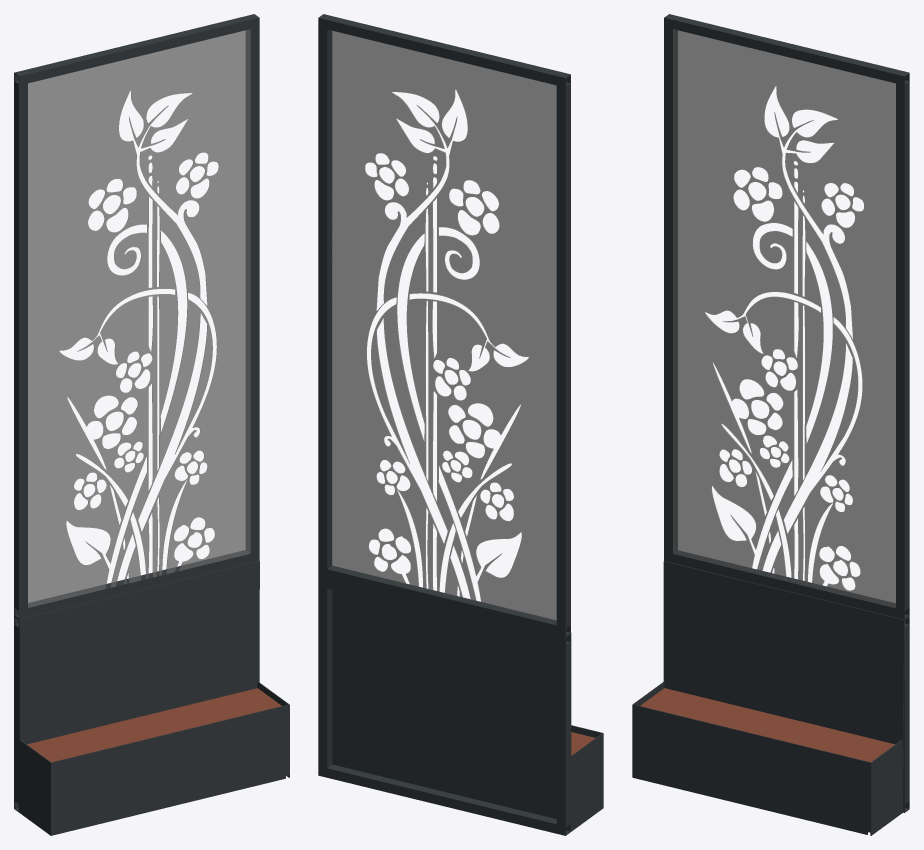
File: Modelo_05-Grade.obj
3 renders of one model, left to right at view 1: azimuth 30°, elevation 25°; view 2: azimuth 150°, elevation 25°; view 3: azimuth 330°, elevation 25°, orthographic. The views are drawn at different scales.
Parts seen in each view (by area): view 1: Mesh15 Group2 Model, Mesh10 Chapa_3mm4 Canteiro1 Inferior M_dulo_01 Model, Mesh9 Chapa_3mm_1_1 Canteiro1 Inferior M_dulo_01 Model, Mesh11 Quadrado_30x30_5 Barras_Horizontais Superior M_dulo_01 Mo, Mesh13 Quadrado_30x30_7 Barras_Horizontais Superior M_dulo_01 Mo, Mesh5 Group1 Canteiro1 Inferior M_dulo_01 Model, Mesh14 Quadrado_30x30_8 Barras_Horizontais Superior M_dulo_01 Mo, Mesh12 Quadrado_30x30_6 Barras_Horizontais Superior M_dulo_01 Mo, Mesh8 Chapa_3mm3 Canteiro1 Inferior M_dulo_01 Model, Mesh2 Quadrado_30x30_2 Inferior M_dulo_01 Model; view 2: Mesh15 Group2 Model, Mesh10 Chapa_3mm4 Canteiro1 Inferior M_dulo_01 Model, Mesh11 Quadrado_30x30_5 Barras_Horizontais Superior M_dulo_01 Mo, Mesh13 Quadrado_30x30_7 Barras_Horizontais Superior M_dulo_01 Mo, Mesh14 Quadrado_30x30_8 Barras_Horizontais Superior M_dulo_01 Mo, Mesh4 Quadrado_30x30_4 Inferior M_dulo_01 Model, Mesh12 Quadrado_30x30_6 Barras_Horizontais Superior M_dulo_01 Mo, Mesh2 Quadrado_30x30_2 Inferior M_dulo_01 Model, Mesh1 Quadrado_30x30_1 Inferior M_dulo_01 Model, Mesh3 Quadrado_30x30_3 Inferior M_dulo_01 Model, Mesh8 Chapa_3mm3 Canteiro1 Inferior M_dulo_01 Model; view 3: Mesh15 Group2 Model, Mesh10 Chapa_3mm4 Canteiro1 Inferior M_dulo_01 Model, Mesh9 Chapa_3mm_1_1 Canteiro1 Inferior M_dulo_01 Model, Mesh13 Quadrado_30x30_7 Barras_Horizontais Superior M_dulo_01 Mo, Mesh11 Quadrado_30x30_5 Barras_Horizontais Superior M_dulo_01 Mo, Mesh5 Group1 Canteiro1 Inferior M_dulo_01 Model, Mesh14 Quadrado_30x30_8 Barras_Horizontais Superior M_dulo_01 Mo, Mesh12 Quadrado_30x30_6 Barras_Horizontais Superior M_dulo_01 Mo, Mesh7 Chapa_3mm2 Canteiro1 Inferior M_dulo_01 Model, Mesh1 Quadrado_30x30_1 Inferior M_dulo_01 Model.
Boxes of the visible parts, bbox=[...] form: Mesh15 Group2 Model: bbox=[28, 29, 250, 607]; Mesh10 Chapa_3mm4 Canteiro1 Inferior M_dulo_01 Model: bbox=[19, 561, 259, 812]; Mesh9 Chapa_3mm_1_1 Canteiro1 Inferior M_dulo_01 Model: bbox=[50, 704, 289, 835]; Mesh11 Quadrado_30x30_5 Barras_Horizontais Superior M_dulo_01 Mo: bbox=[14, 82, 27, 609]; Mesh13 Quadrado_30x30_7 Barras_Horizontais Superior M_dulo_01 Mo: bbox=[246, 27, 259, 553]; Mesh5 Group1 Canteiro1 Inferior M_dulo_01 Model: bbox=[27, 688, 281, 762]; Mesh14 Quadrado_30x30_8 Barras_Horizontais Superior M_dulo_01 Mo: bbox=[14, 14, 259, 85]; Mesh12 Quadrado_30x30_6 Barras_Horizontais Superior M_dulo_01 Mo: bbox=[14, 550, 259, 619]; Mesh8 Chapa_3mm3 Canteiro1 Inferior M_dulo_01 Model: bbox=[19, 740, 50, 834]; Mesh2 Quadrado_30x30_2 Inferior M_dulo_01 Model: bbox=[14, 625, 18, 802]; Mesh15 Group2 Model: bbox=[332, 31, 556, 620]; Mesh10 Chapa_3mm4 Canteiro1 Inferior M_dulo_01 Model: bbox=[332, 589, 571, 831]; Mesh11 Quadrado_30x30_5 Barras_Horizontais Superior M_dulo_01 Mo: bbox=[556, 84, 570, 627]; Mesh13 Quadrado_30x30_7 Barras_Horizontais Superior M_dulo_01 Mo: bbox=[318, 27, 332, 569]; Mesh14 Quadrado_30x30_8 Barras_Horizontais Superior M_dulo_01 Mo: bbox=[318, 14, 570, 87]; Mesh4 Quadrado_30x30_4 Inferior M_dulo_01 Model: bbox=[318, 764, 570, 835]; Mesh12 Quadrado_30x30_6 Barras_Horizontais Superior M_dulo_01 Mo: bbox=[318, 565, 570, 636]; Mesh2 Quadrado_30x30_2 Inferior M_dulo_01 Model: bbox=[556, 643, 570, 826]; Mesh1 Quadrado_30x30_1 Inferior M_dulo_01 Model: bbox=[318, 586, 332, 767]; Mesh3 Quadrado_30x30_3 Inferior M_dulo_01 Model: bbox=[318, 577, 570, 646]; Mesh8 Chapa_3mm3 Canteiro1 Inferior M_dulo_01 Model: bbox=[571, 733, 603, 831]; Mesh15 Group2 Model: bbox=[673, 29, 895, 607]; Mesh10 Chapa_3mm4 Canteiro1 Inferior M_dulo_01 Model: bbox=[663, 561, 904, 812]; Mesh9 Chapa_3mm_1_1 Canteiro1 Inferior M_dulo_01 Model: bbox=[632, 704, 871, 835]; Mesh13 Quadrado_30x30_7 Barras_Horizontais Superior M_dulo_01 Mo: bbox=[896, 82, 909, 610]; Mesh11 Quadrado_30x30_5 Barras_Horizontais Superior M_dulo_01 Mo: bbox=[664, 27, 677, 553]; Mesh5 Group1 Canteiro1 Inferior M_dulo_01 Model: bbox=[640, 688, 894, 762]; Mesh14 Quadrado_30x30_8 Barras_Horizontais Superior M_dulo_01 Mo: bbox=[664, 14, 909, 85]; Mesh12 Quadrado_30x30_6 Barras_Horizontais Superior M_dulo_01 Mo: bbox=[664, 550, 909, 619]; Mesh7 Chapa_3mm2 Canteiro1 Inferior M_dulo_01 Model: bbox=[871, 740, 902, 835]; Mesh1 Quadrado_30x30_1 Inferior M_dulo_01 Model: bbox=[903, 625, 909, 803].
Size of the model in its own units: 0.82 by 2.4 by 0.2182.
